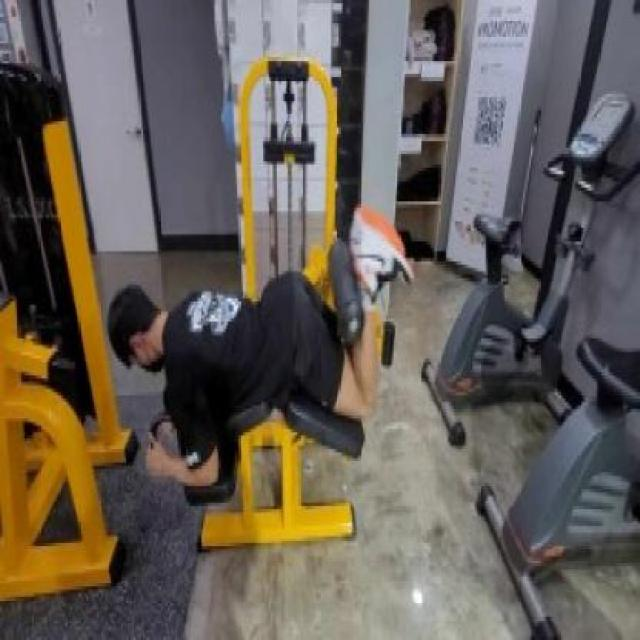reg curl machine: (101, 46, 417, 557)
